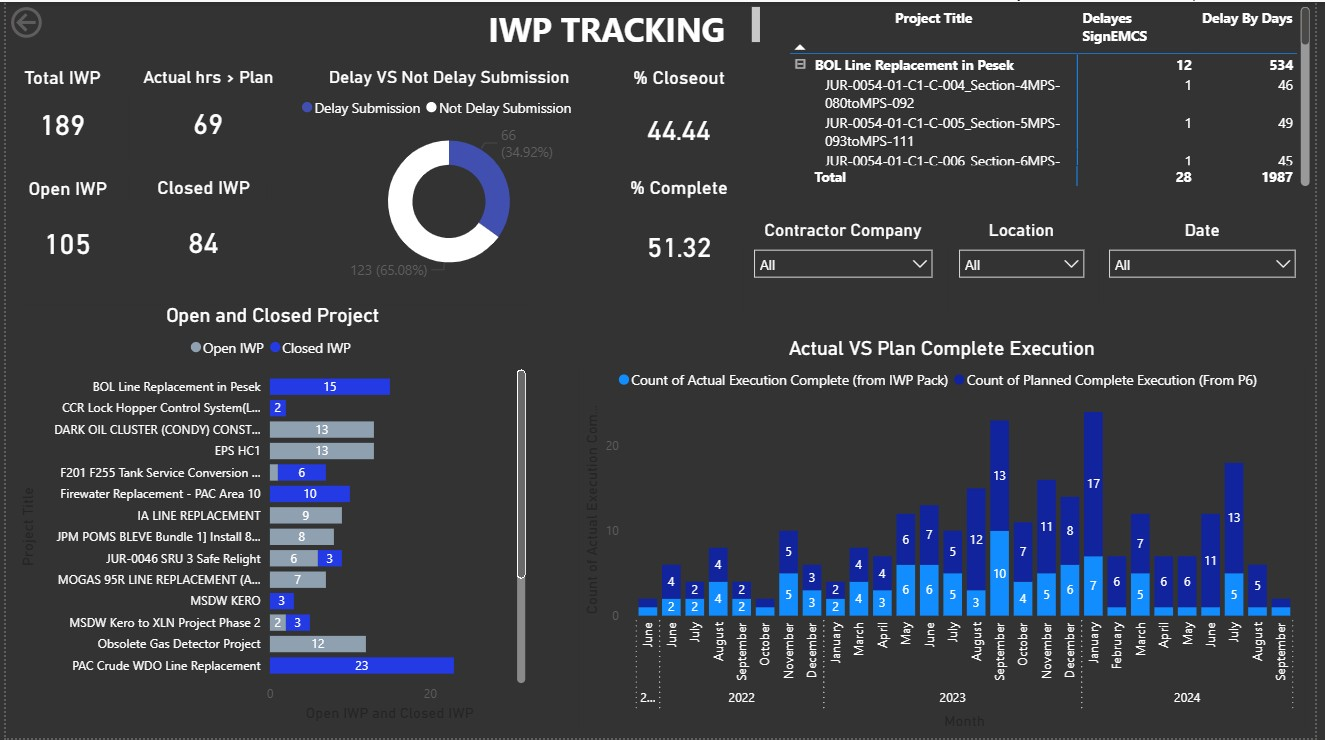

What the dashboard file says about the page in this screenshot:
{"tool":"powerbi","page":{"name":"Page 2","canvas":[1280,720],"ordinal":0},"visuals":[{"type":"textbox","box":[448.7,0,293.7,48],"z":0},{"type":"card","title":"Total IWP","fields":{"Values":["CountNonNull(All Sites.IWP # (with description))"]},"box":[1,63.5,108.2,90.5],"z":1000},{"type":"slicer","title":"Contractor Company","fields":{"Values":["All Sites.Contractors Company (Dropdown list)"]},"box":[721.8,212.7,194.9,89.2],"z":2000},{"type":"card","title":"Open IWP","fields":{"Values":["All Sites.Open IWP"]},"box":[1,172.7,118.6,105.1],"z":3000},{"type":"card","title":"Closed IWP","fields":{"Values":["All Sites.Measure 2"]},"box":[132.1,171.7,122.8,106.1],"z":4000},{"type":"card","title":"Actual hrs > Plan","fields":{"Values":["All Sites.IWP Hours difference"]},"box":[119.6,63.5,156.1,90.5],"z":5000},{"type":"donutChart","title":"Delay VS Not Delay Submission","fields":{"Y":["All Sites.ACtual Vs Plan Datediff","All Sites.Not Delay Submission"]},"box":[284,63.5,299.7,214.3],"z":6000},{"type":"card","title":"% Closeout","fields":{"Values":["All Sites.% Closeout"]},"box":[595.1,63.5,125.9,100.9],"z":7000},{"type":"card","title":"% Complete","fields":{"Values":["All Sites.% Complete"]},"box":[595.1,170.6,125.9,114.5],"z":8000},{"type":"pivotTable","fields":{"Values":["All Sites.Delayes SignEMCS","Sum(All Sites.DElayed EMCs)"],"Rows":["All Sites.Project Title","All Sites.IWP # (with description)"]},"box":[761.6,0,518.7,185.2],"z":9000},{"type":"slicer","title":"Location","fields":{"Values":["All Sites.Area (Dropdown List)"]},"box":[922.1,212.7,142.7,89.2],"z":10000},{"type":"barChart","title":"Open and Closed Project","fields":{"Category":["All Sites.Project Title"],"Y":["All Sites.Open IWP","All Sites.Measure 2"]},"box":[8.3,296.5,504.6,413.1],"z":11000},{"type":"columnChart","title":"Actual VS Plan Complete Execution","fields":{"Y":["CountNonNull(All Sites.Actual Execution Complete (from IWP Pack))","CountNonNull(All Sites.Planned Complete Execution (From P6) )"],"Category":["All Sites.Planned Complete Execution (From P6) .Variation.Date Hierarchy.Year","All Sites.Planned Complete Execution (From P6) .Variation.Date Hierarchy.Month"]},"box":[560.6,328.3,710.8,388.3],"z":12000},{"type":"slicer","title":"Date","fields":{"Values":["All Sites.Planned Submission (T-3).Variation.Date Hierarchy.Year","All Sites.Planned Submission (T-3).Variation.Date Hierarchy.Month"]},"box":[1069,212.7,203.1,89.2],"z":13000},{"type":"actionButton","box":[0,0,100,40],"z":14000}]}

Visuals, with their boxes in screenshot pixels (x1, y1, x2, y2), scaled from the page's 1280x720 canvas onto the 1325x740 screenshot:
textbox: region(464, 0, 768, 49)
"Total IWP" card: region(1, 65, 113, 158)
"Contractor Company" slicer: region(747, 219, 949, 310)
"Open IWP" card: region(1, 177, 124, 286)
"Closed IWP" card: region(137, 176, 264, 286)
"Actual hrs > Plan" card: region(124, 65, 285, 158)
"Delay VS Not Delay Submission" donutChart: region(294, 65, 604, 286)
"% Closeout" card: region(616, 65, 746, 169)
"% Complete" card: region(616, 175, 746, 293)
pivotTable - All Sites.Delayes SignEMCS x Sum(All Sites.DElayed EMCs): region(788, 0, 1324, 190)
"Location" slicer: region(955, 219, 1102, 310)
"Open and Closed Project" barChart: region(9, 305, 531, 729)
"Actual VS Plan Complete Execution" columnChart: region(580, 337, 1316, 737)
"Date" slicer: region(1107, 219, 1317, 310)
actionButton: region(0, 0, 104, 41)
